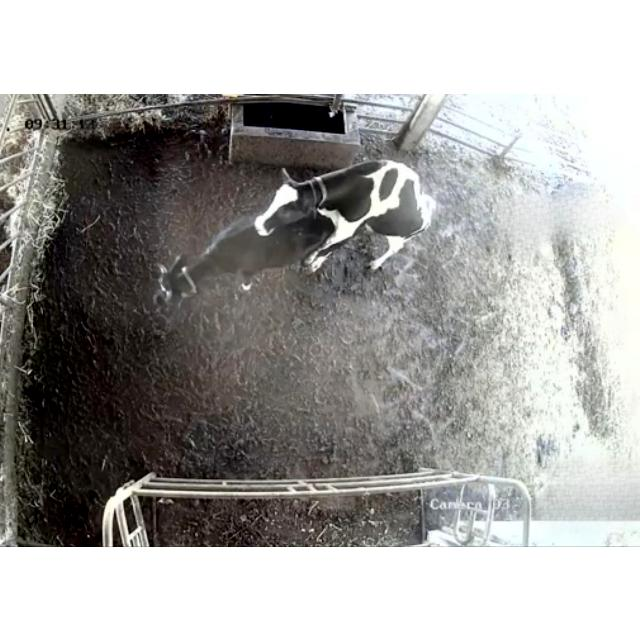ride: (252, 158, 436, 272)
